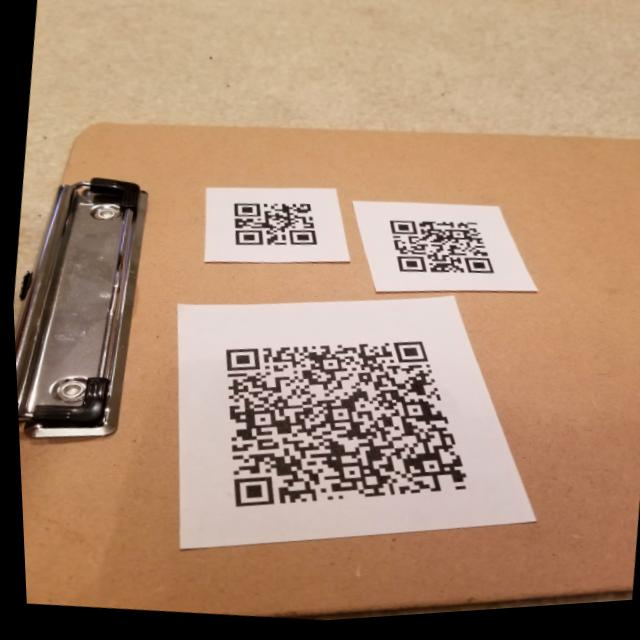QR_CODE: (185, 312, 496, 551), (370, 201, 513, 301), (214, 185, 330, 267)
